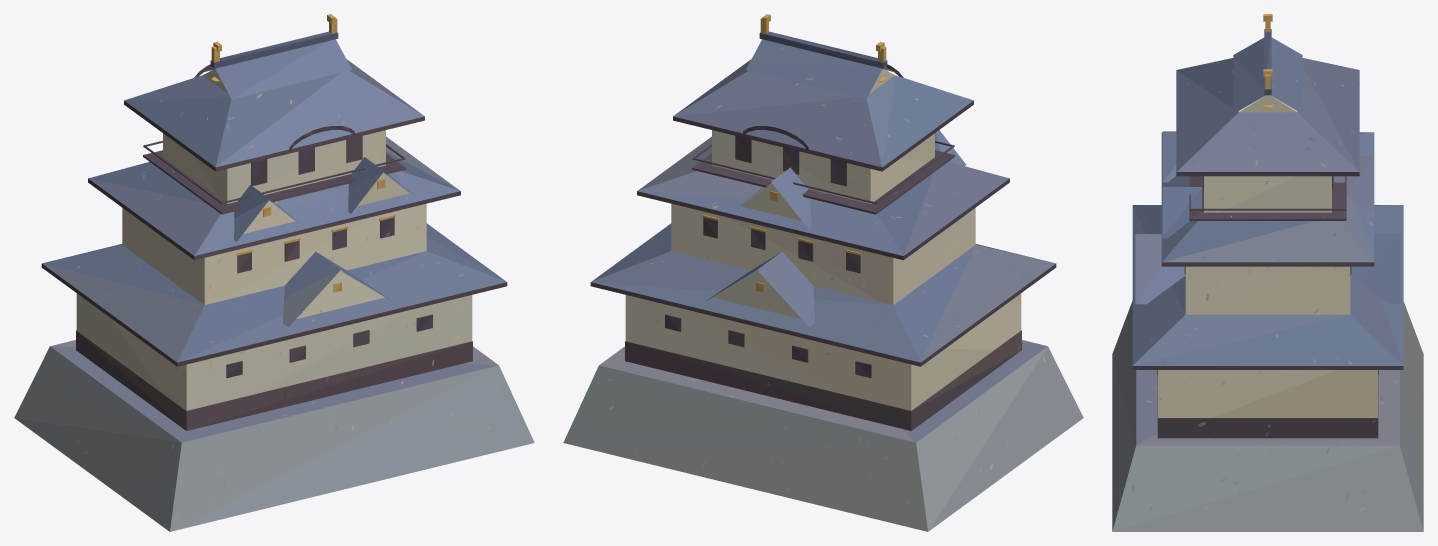
File: HK_HikoneCastle.lod.glb
3 views of the same model, side by side, from view 1: azimuth 30°, elevation 25°; view 2: azimuth 150°, elevation 25°; view 3: azimuth 270°, elevation 25° (orthographic).
Visible parts, largest first — view 1: HK_HikoneCastle; view 2: HK_HikoneCastle; view 3: HK_HikoneCastle.
Boxes of the visible parts, x1=… form: HK_HikoneCastle: x1=14, y1=14, x2=534, y2=531; HK_HikoneCastle: x1=563, y1=14, x2=1083, y2=531; HK_HikoneCastle: x1=1112, y1=14, x2=1423, y2=531.
Size of the model in its own units: 23 by 24.13 by 17.
